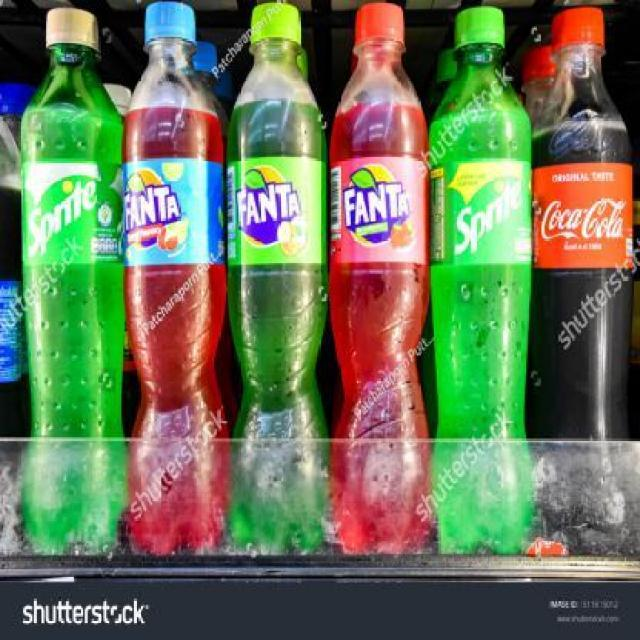Drinks: (121, 1, 226, 552), (18, 8, 122, 558), (430, 6, 532, 557), (328, 3, 430, 554), (226, 1, 328, 552), (533, 8, 635, 558)
